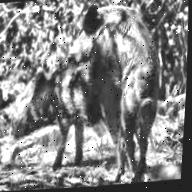boar: (60, 0, 181, 177), (7, 39, 131, 183)
